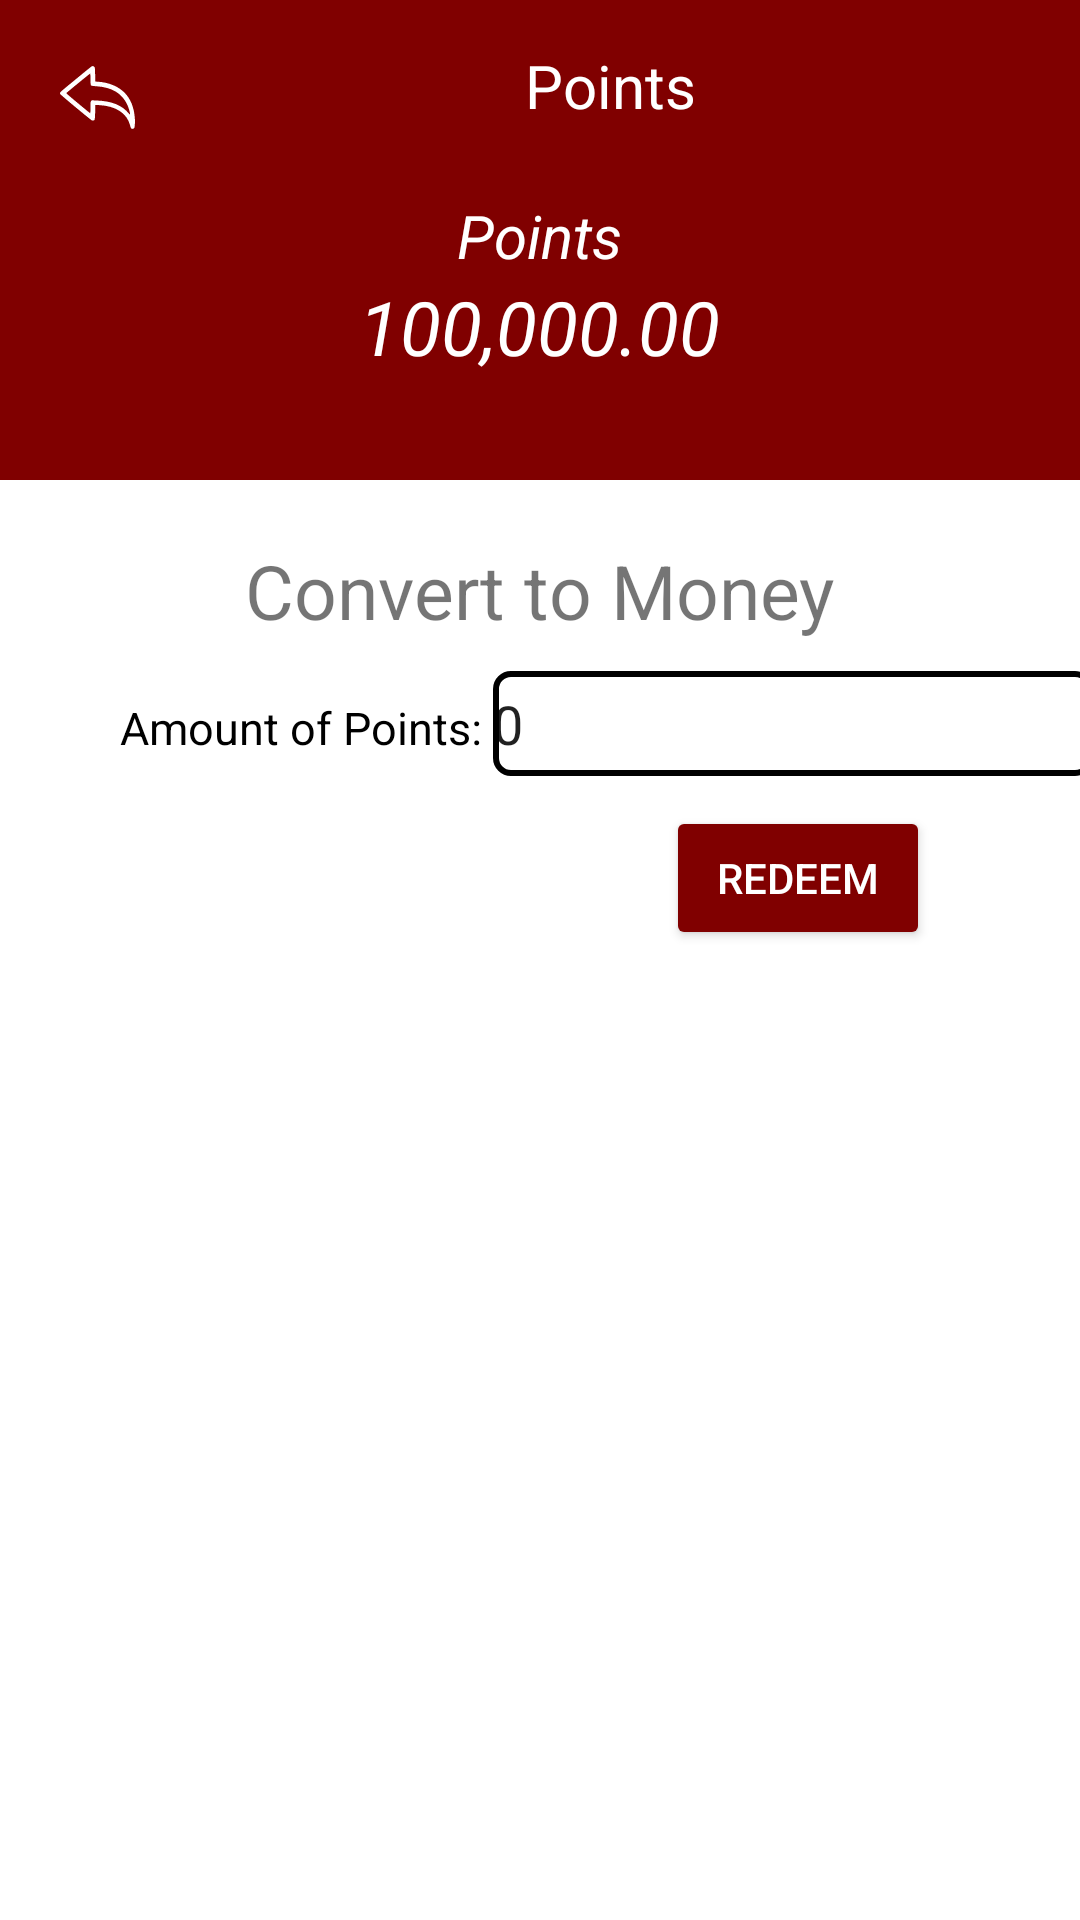

Locate icon controls on the screen. Image size 1080px x 1920px, boxes as [x1, y1, x2, y2].
back: [60, 66, 135, 129]
